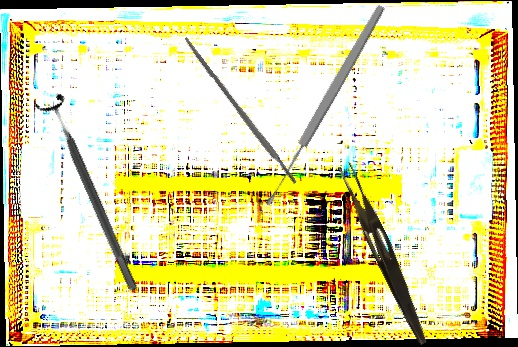Dressing Forceps: (331, 161, 437, 347)
Fixation Ring: (32, 89, 150, 298)
Scalpel Handle: (182, 35, 298, 187)
Surgical Spoon: (261, 3, 388, 208)
